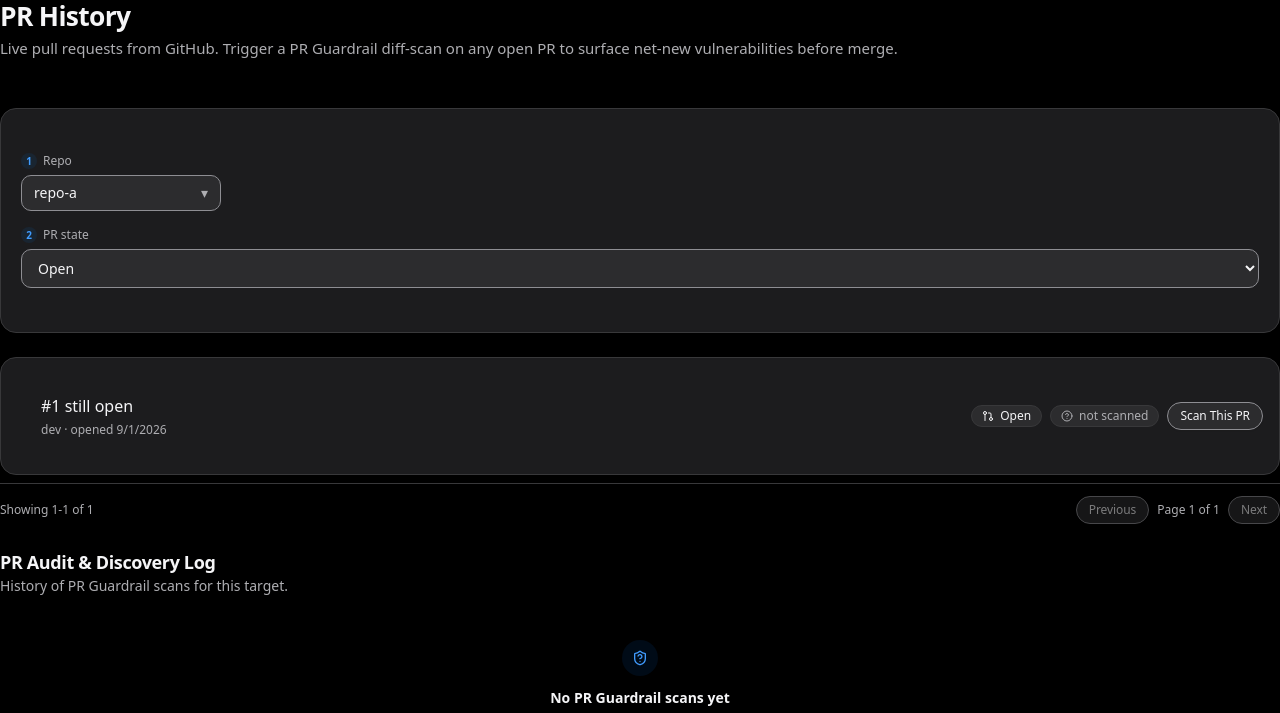
Test: PR state filter › puts every state back with All
The image size is (1280, 713).
Expected: the link "#1 still open" is shown, [41,394,133,418]
Select "All" in the dropdown named "PR state" at (640, 269), box [21,249,1259,288]
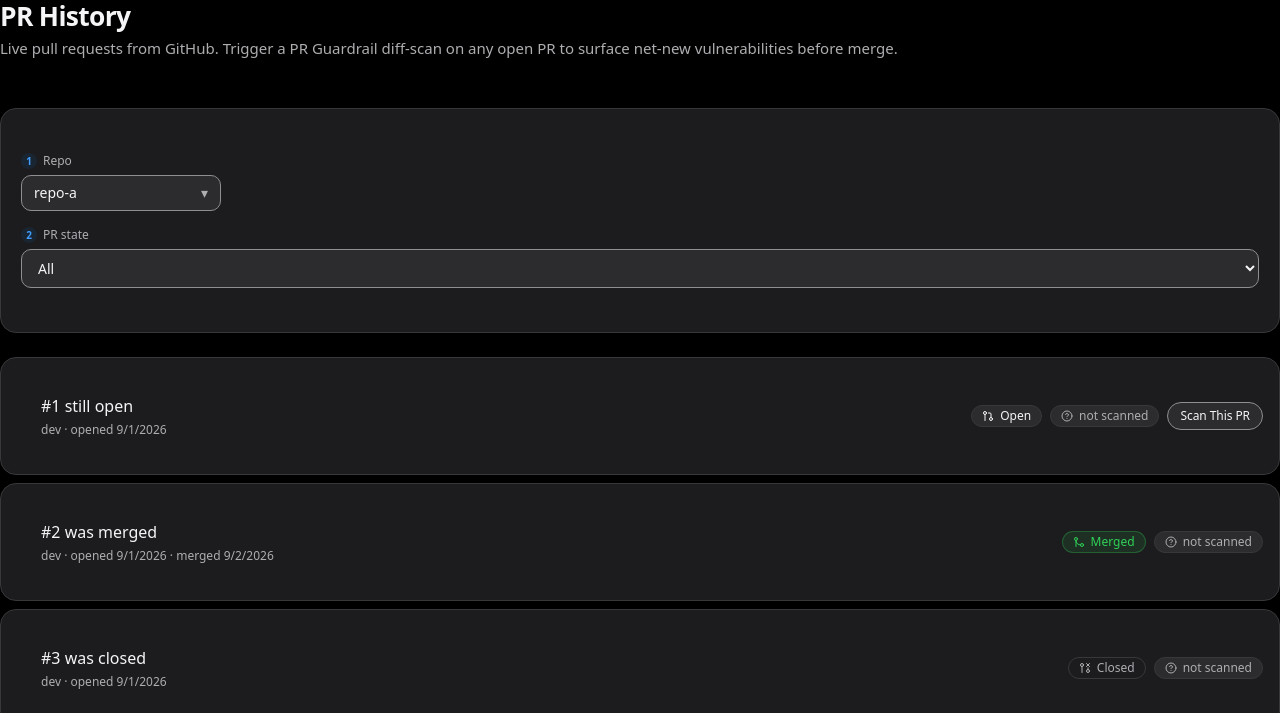
Expected: the link "#1 still open" is shown, [41,394,133,418]
Expected: the link "#3 was closed" is shown, [41,646,146,670]
